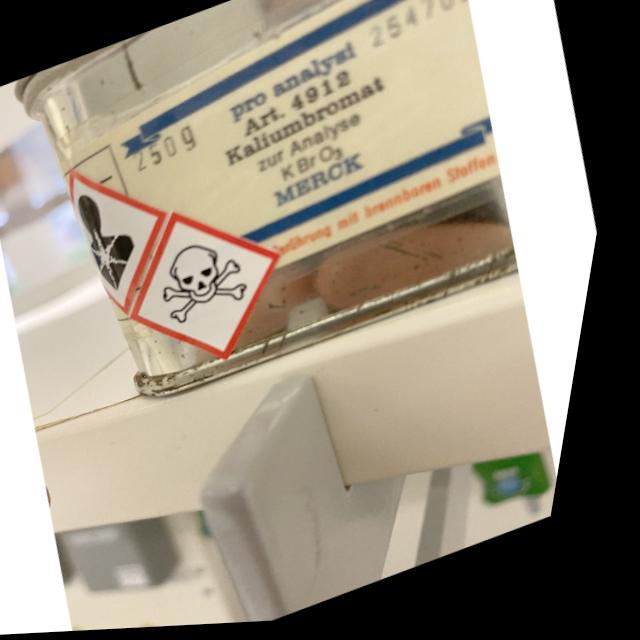acute toxicity: (101, 176, 327, 393)
serious health hazard: (52, 140, 209, 329)
